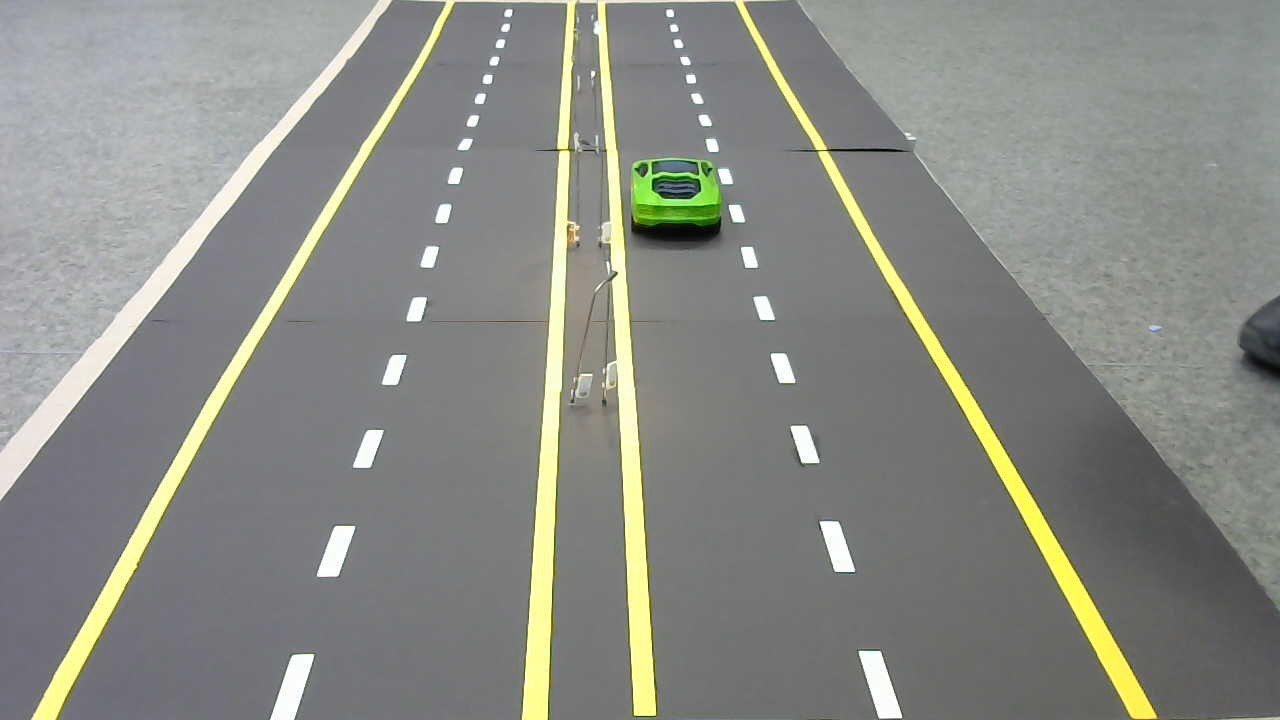back_car: (627, 154, 728, 240)
